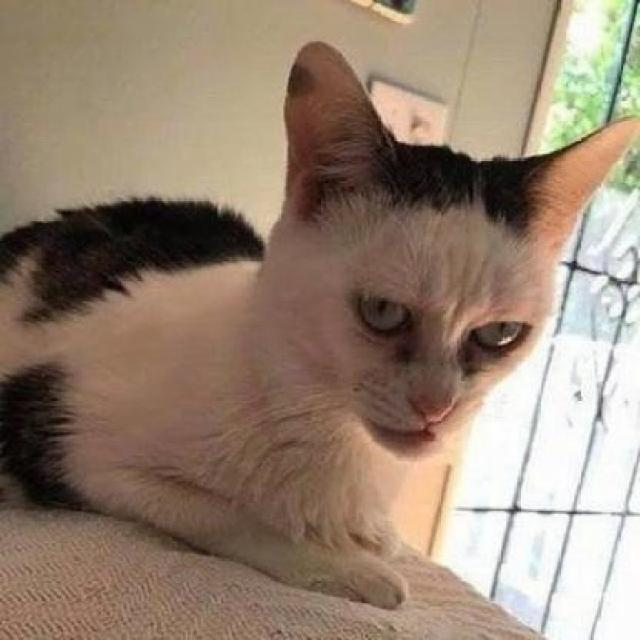cat: (0, 36, 634, 581)
